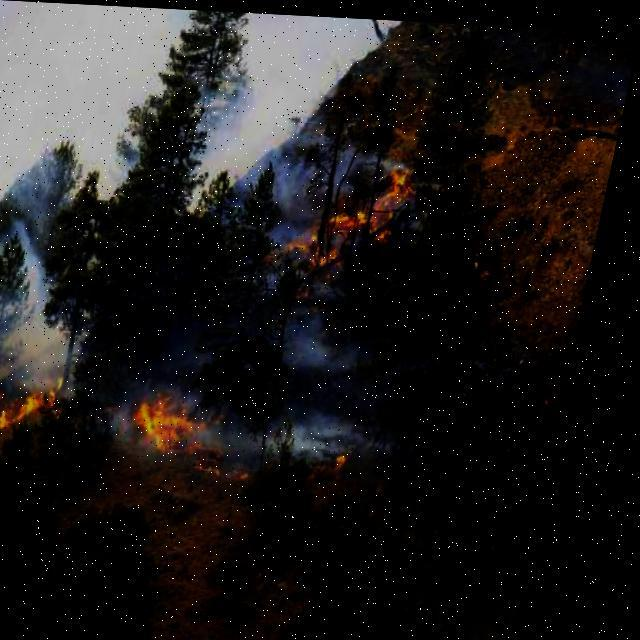Fire: (296, 146, 426, 272), (136, 377, 256, 470), (0, 349, 98, 436)
